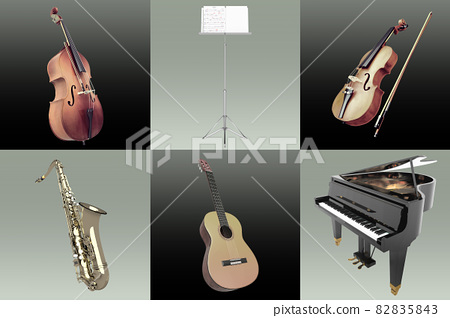Piano: (310, 150, 437, 299)
Saxophone: (14, 154, 126, 297)
Violin: (307, 1, 450, 145)
